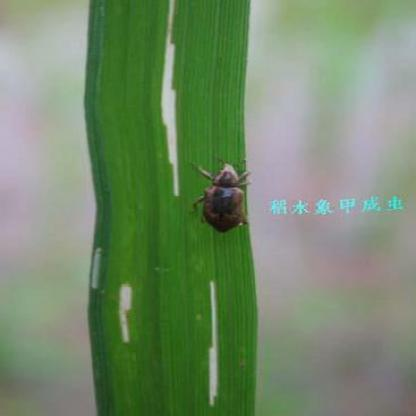rice-bug: (187, 157, 264, 235)
